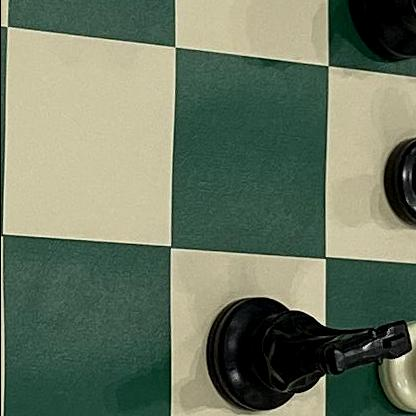black-knight: (201, 281, 414, 416)
black-pawn: (379, 135, 416, 236)
white-pawn: (377, 316, 416, 416)
